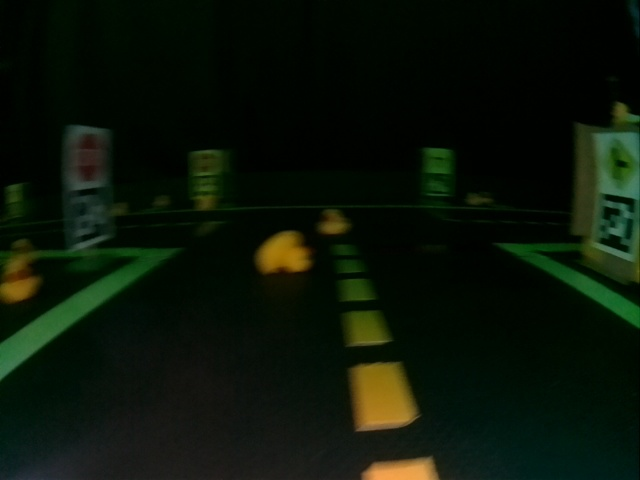Duckie: (258, 231, 307, 272), (3, 259, 39, 297), (319, 210, 349, 235)
Intersection sign: (597, 136, 639, 189), (426, 148, 448, 173)
QR code: (67, 192, 110, 245), (596, 198, 636, 253)
Stop sign: (69, 130, 104, 184), (193, 152, 219, 173)
